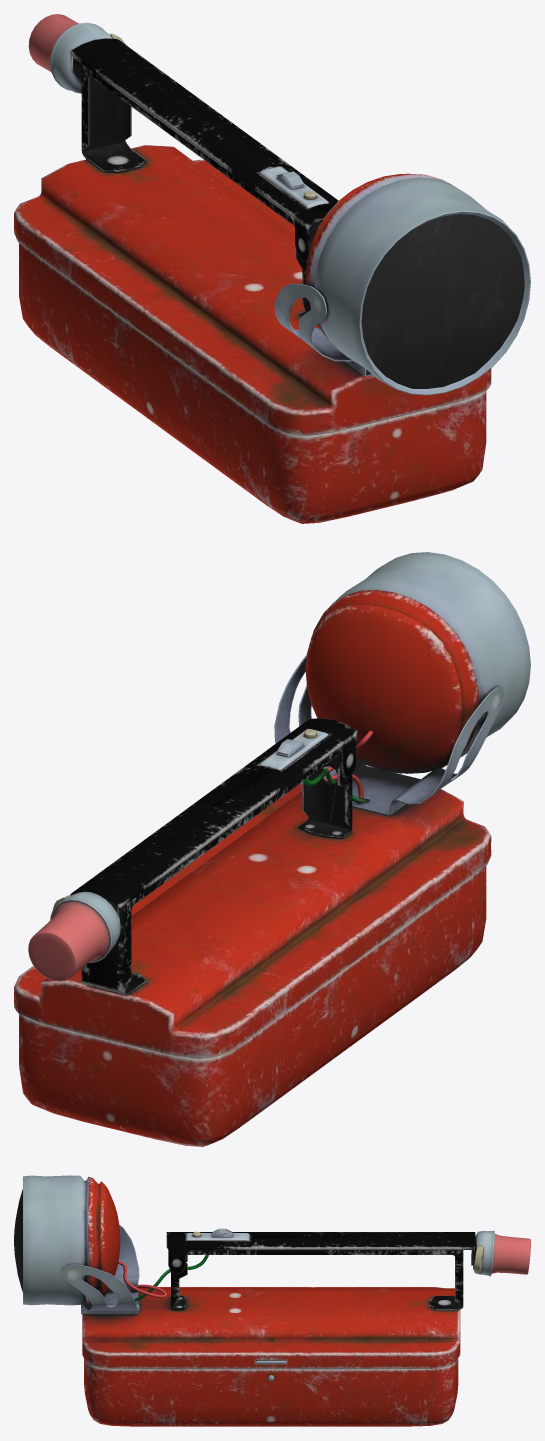
The model's file is vintage_flashlight.glb.
3 views of the same model, one above another, from view 1: azimuth 30°, elevation 25°; view 2: azimuth 150°, elevation 25°; view 3: azimuth 270°, elevation 25° (orthographic). The views are drawn at different scales.
Visible parts, largest first — view 1: vintage_flashlight; view 2: vintage_flashlight; view 3: vintage_flashlight.
Boxes of the visible parts, x1,y1,x2,y2 form: vintage_flashlight: [14, 14, 530, 523]; vintage_flashlight: [14, 552, 530, 1146]; vintage_flashlight: [14, 1175, 530, 1426].
Size of the model in its own units: 0.0959 by 0.1443 by 0.3055.
2 materials, 2 textured.
